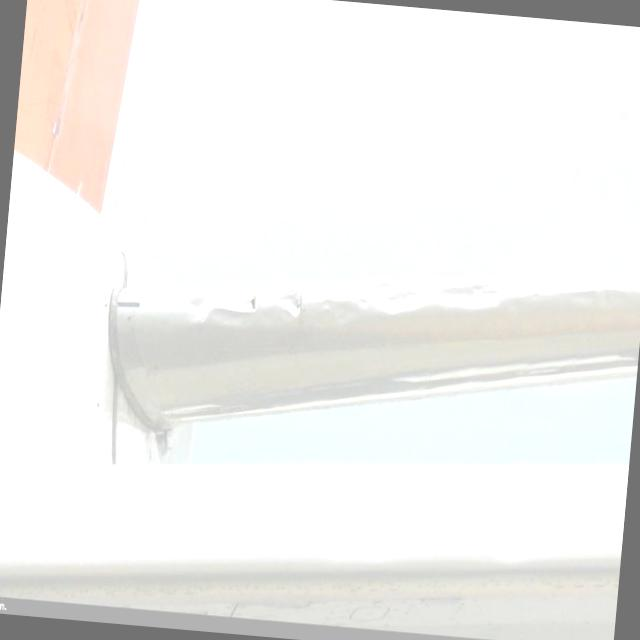dent: (183, 278, 260, 326), (358, 278, 432, 322), (428, 272, 507, 312), (331, 532, 388, 564), (490, 526, 534, 566), (276, 288, 307, 320)
